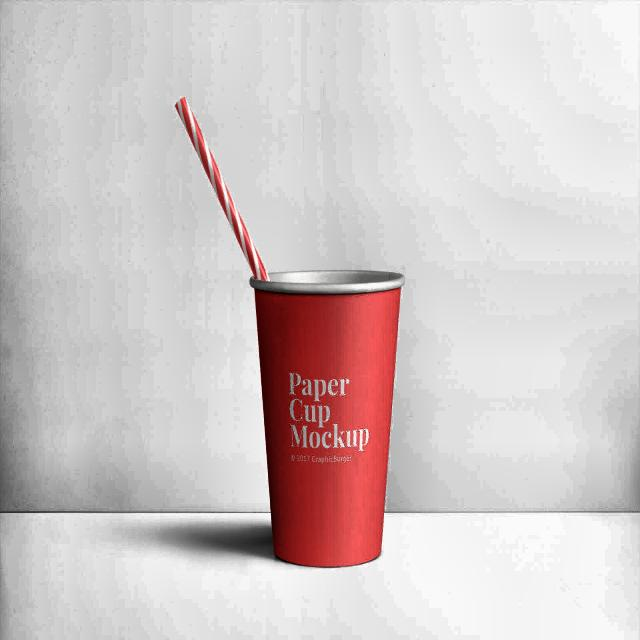Cup: (227, 252, 407, 578)
